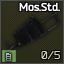Mosin 7.62x54R 5-round magazine: (0, 0, 64, 64)
